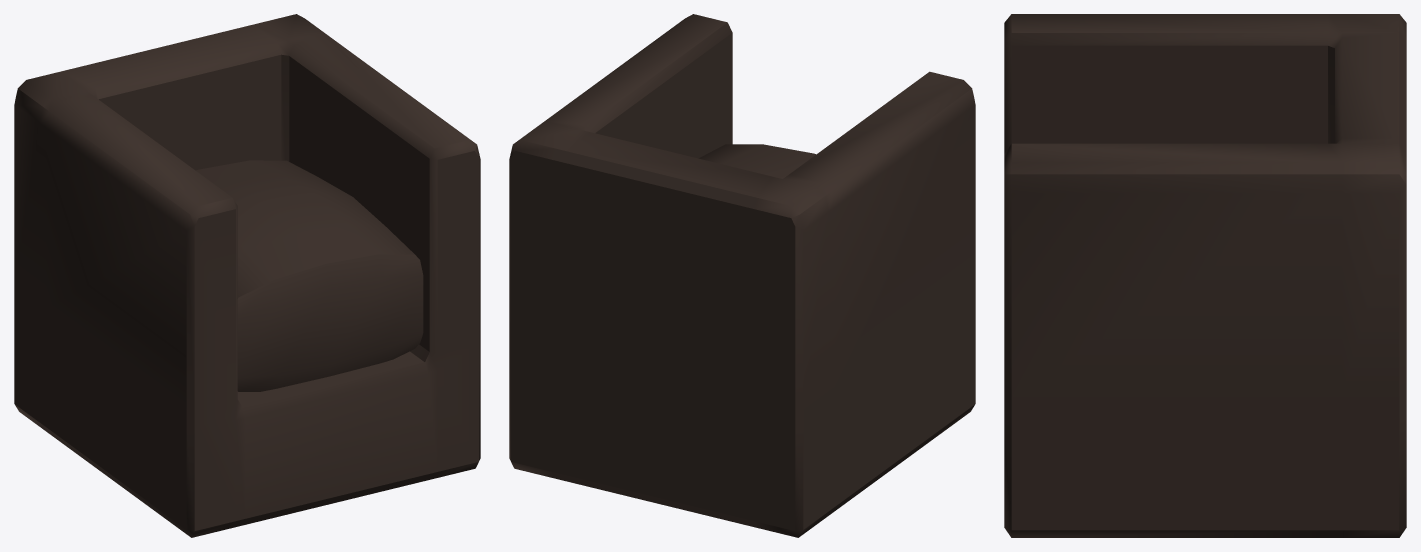
File: pk_reclc_brown.glb
3 renders of one model, left to right at view 1: azimuth 30°, elevation 25°; view 2: azimuth 150°, elevation 25°; view 3: azimuth 270°, elevation 25°, orthographic. The views are drawn at different scales.
Visible parts, largest first — view 1: pk_reclc_brown; view 2: pk_reclc_brown; view 3: pk_reclc_brown.
Boxes of the visible parts, bbox=[...] form: pk_reclc_brown: bbox=[14, 14, 480, 537]; pk_reclc_brown: bbox=[509, 14, 975, 537]; pk_reclc_brown: bbox=[1004, 14, 1406, 537].
Bounding box in the file's own units: 0.95 × 1.02 × 1.
1 material, 1 textured.
